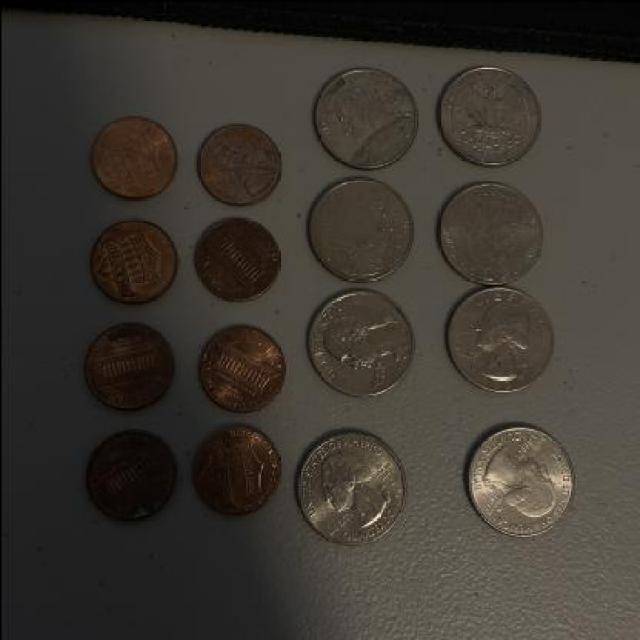Penny: (80, 423, 182, 522), (80, 212, 177, 306), (196, 320, 290, 416), (188, 421, 282, 517), (78, 316, 172, 410), (189, 214, 283, 300), (89, 109, 177, 200), (193, 122, 284, 204)
Quarter: (456, 419, 578, 538), (294, 426, 411, 548), (443, 288, 566, 396), (300, 172, 414, 283), (436, 177, 550, 285), (304, 286, 412, 400), (436, 60, 542, 168), (312, 62, 420, 166)
